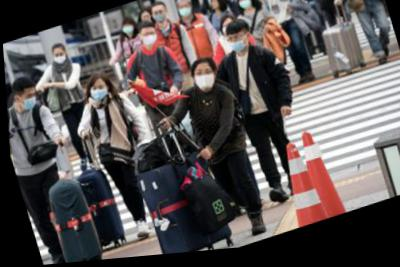NONE: (140, 15, 153, 27), (208, 1, 219, 14)
OK: (190, 67, 217, 96), (224, 34, 247, 59), (16, 89, 39, 113), (87, 83, 108, 103), (139, 29, 158, 50), (218, 24, 236, 42), (176, 4, 193, 22), (152, 9, 168, 28), (51, 51, 67, 67), (121, 22, 135, 37), (238, 1, 253, 15)
